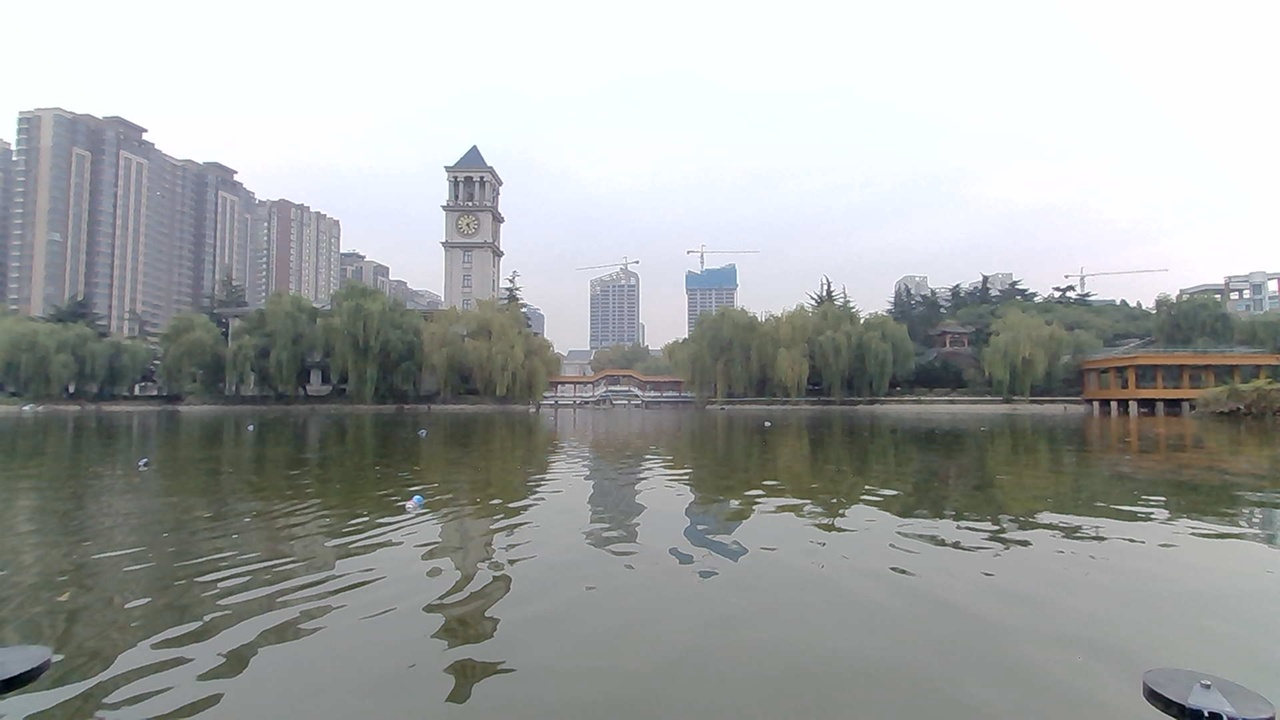bottle: (390, 489, 445, 522), (402, 410, 441, 443), (120, 445, 160, 474), (235, 410, 269, 440), (748, 410, 786, 433)
